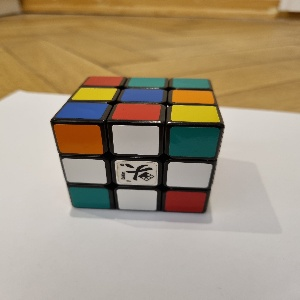cube: (50, 76, 225, 214)
